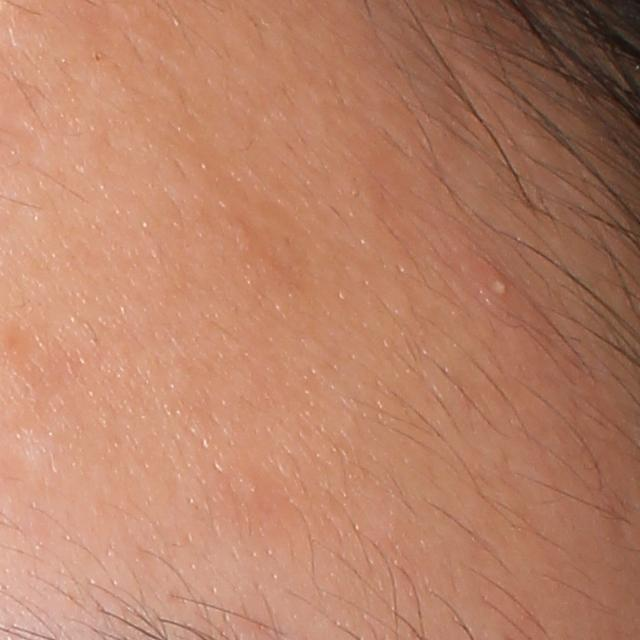pustule: (482, 272, 512, 302)
